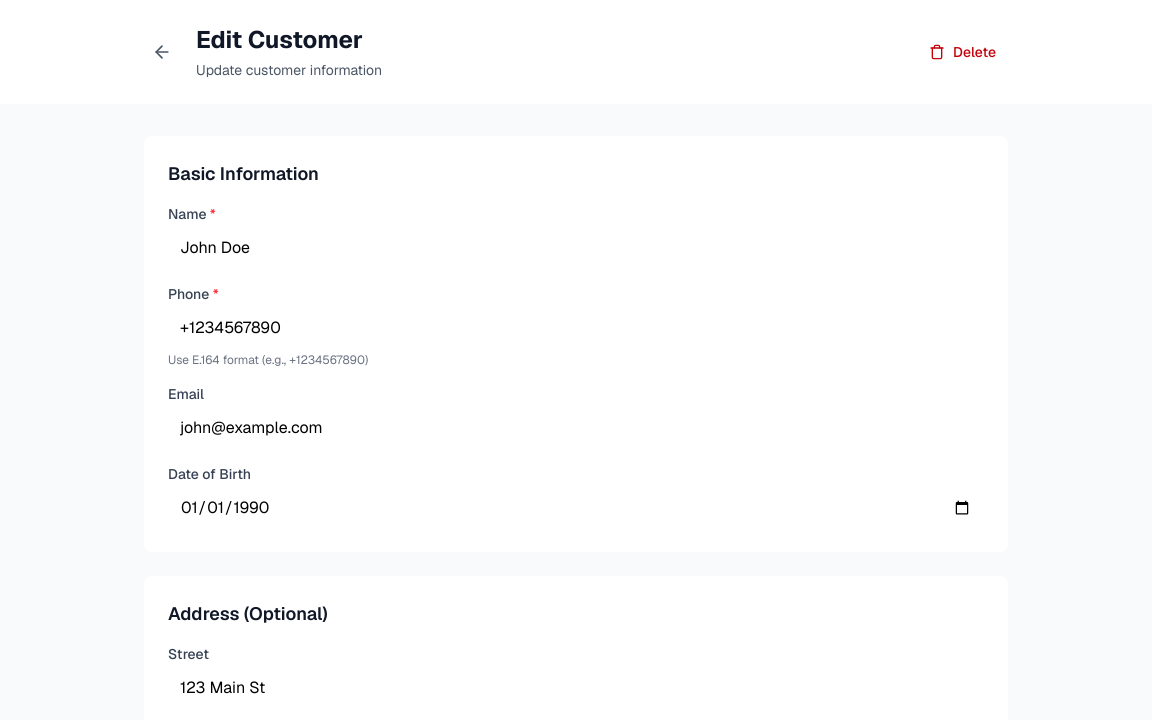
Scenario: EditCustomerPage › Customer Deletion › should show delete confirmation modal when delete button clicked
Expected: the field showing "John Doe" is shown, [168, 228, 984, 268]
Click the button "Delete". click: click(962, 52)
box: [917, 34, 1008, 70]
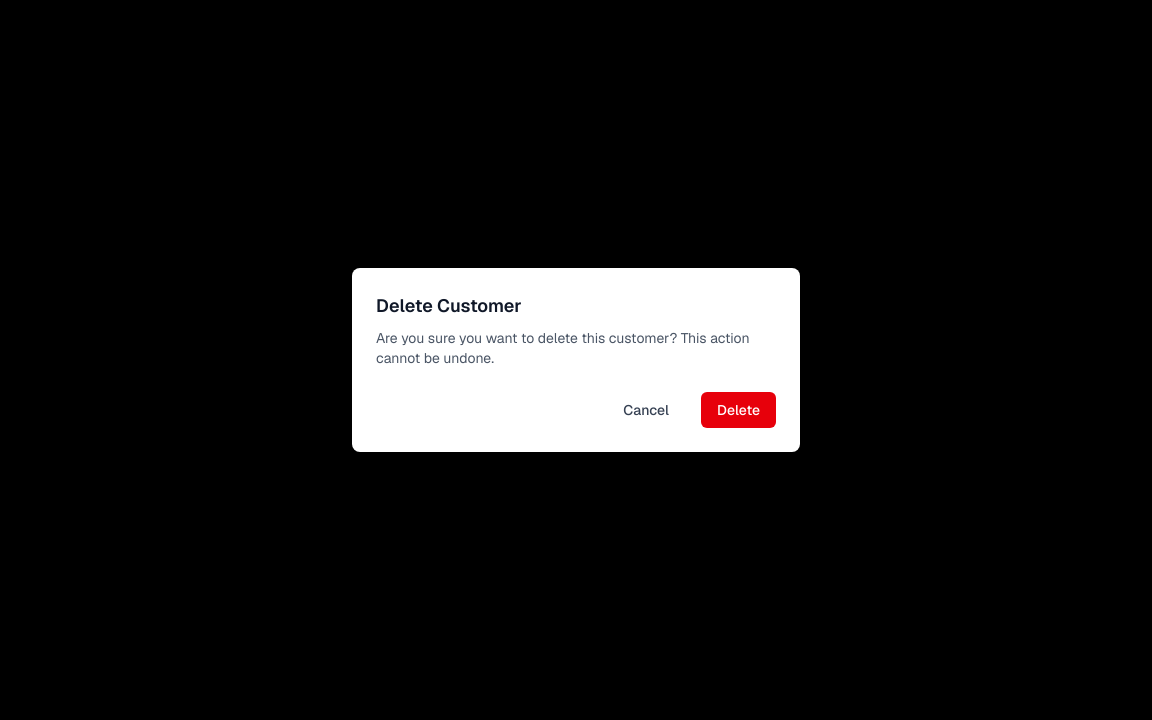
Expected: the text "Are you sure you want to delete this customer" is shown, [376, 329, 750, 367]
